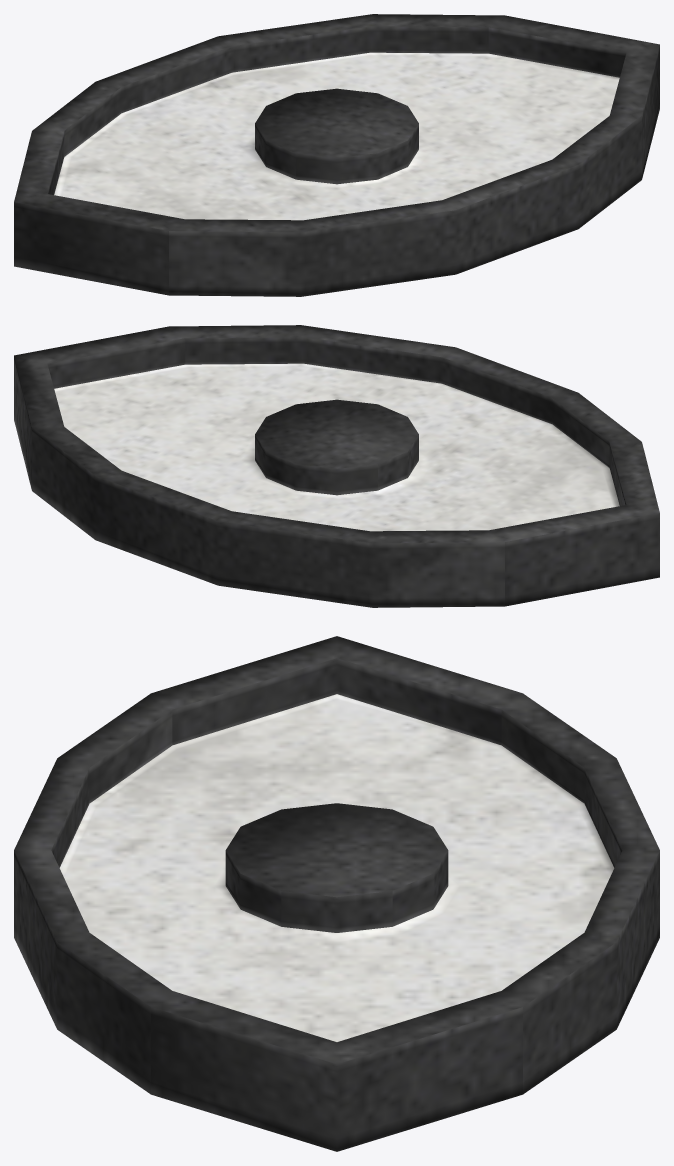
Rendered from Amulet.Eye.fbx.
3 views of the same model, one above another, from view 1: azimuth 30°, elevation 25°; view 2: azimuth 150°, elevation 25°; view 3: azimuth 270°, elevation 25° (orthographic). The views are drawn at different scales.
Parts seen in each view (by area): view 1: Eye.Amulet; view 2: Eye.Amulet; view 3: Eye.Amulet.
Boxes of the visible parts, bbox=[...] form: Eye.Amulet: bbox=[14, 14, 659, 296]; Eye.Amulet: bbox=[14, 325, 659, 607]; Eye.Amulet: bbox=[14, 636, 659, 1151].
Bounding box in the file's own units: 53.33 × 5.08 × 33.99.
